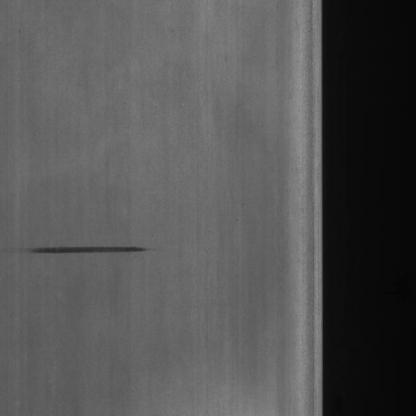crease: (13, 223, 152, 276)
